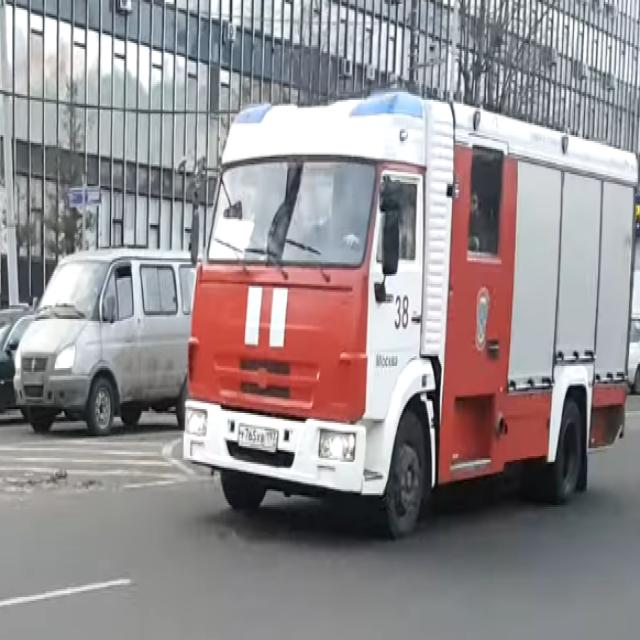fire fighting vehicle: (181, 86, 640, 543)
non emergency car: (12, 244, 205, 441)
